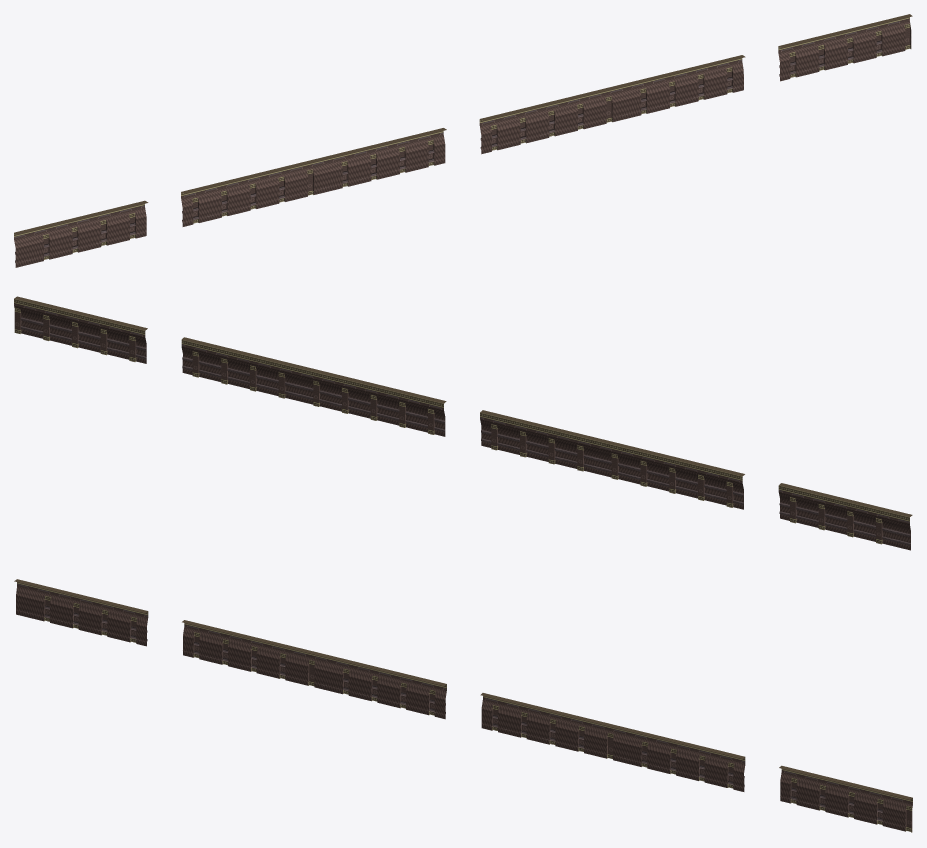
File: Wall_Hall_150m.glb
The picture shows the model from 3 angles, top to bottom: view 1: azimuth 30°, elevation 25°; view 2: azimuth 150°, elevation 25°; view 3: azimuth 330°, elevation 25°; orthographic projection.
Parts seen in each view (by area): view 1: Wall.005; view 2: Wall.005; view 3: Wall.005.
Part boxes in pixels (left/top/right/bottom): Wall.005: left=14, top=14, right=912, bottom=267; Wall.005: left=14, top=296, right=912, bottom=550; Wall.005: left=14, top=579, right=912, bottom=832.
Size of the model in its own units: 150 by 5.5 by 0.9039.
Materials: 2 (2 with a texture image).
